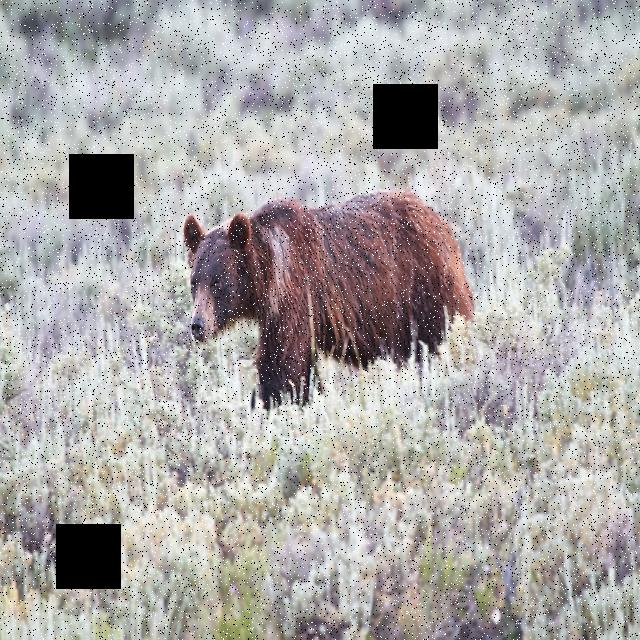Bear: (180, 191, 478, 382)
